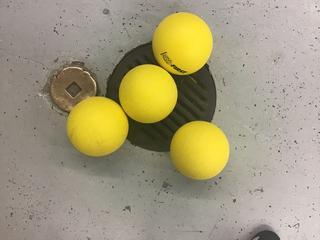power_cell: (68, 96, 129, 162), (117, 64, 178, 127), (173, 117, 229, 182), (154, 7, 208, 74)
